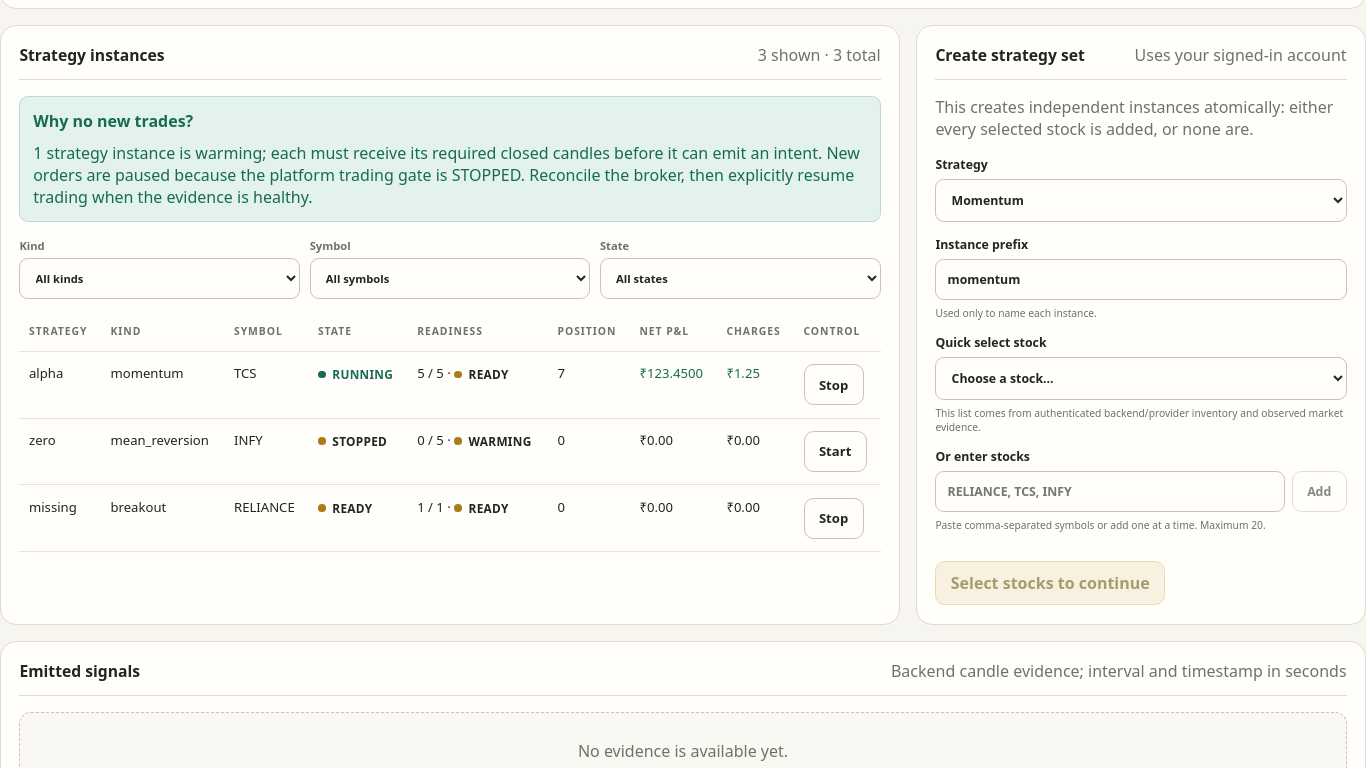
Test case: rejected and mutating actions › shows subscription errors and prevents duplicate control submissions
(page scrolled)
Click the button "Stop" in the row of "alpha" at (834, 385), box [804, 364, 864, 405]
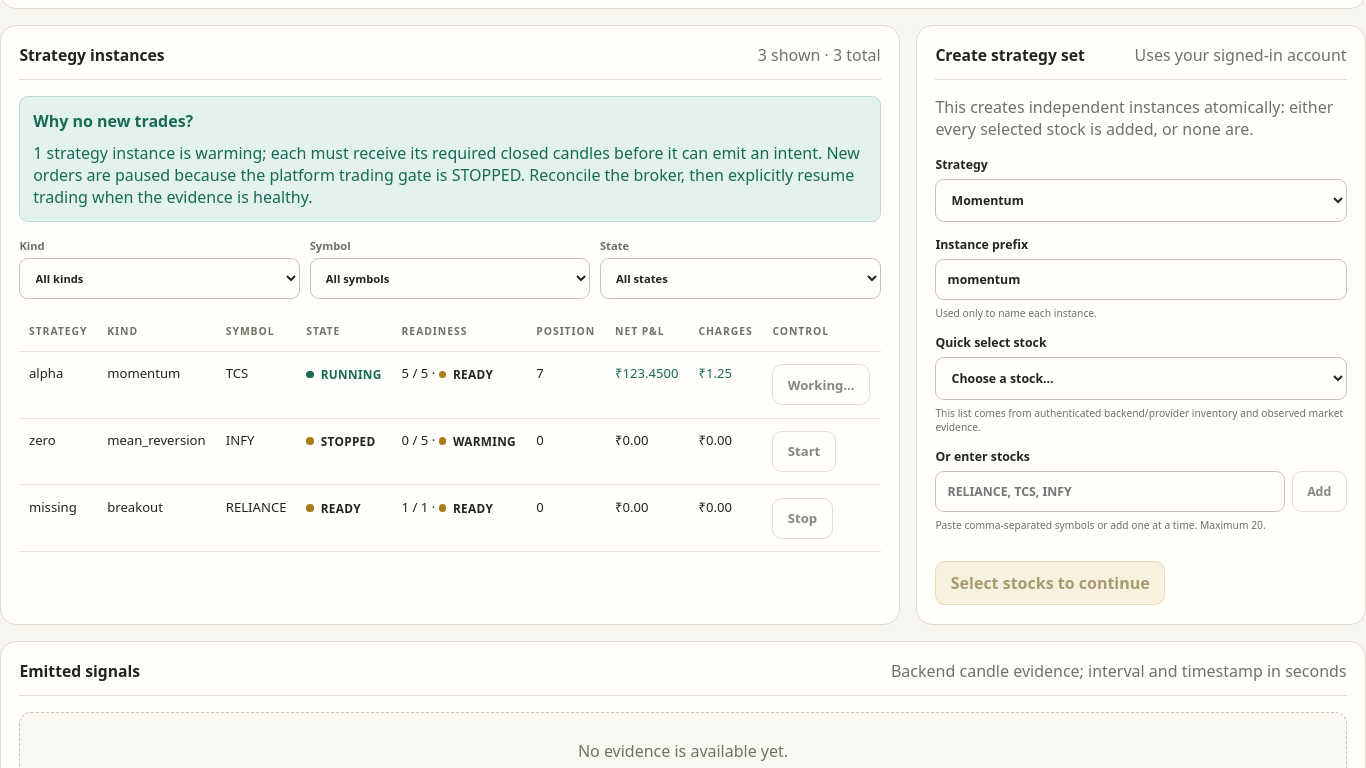
Check: the button "Working…" is disabled
Click the button "Working…" at (821, 385), box [772, 364, 870, 405]
(page scrolled)
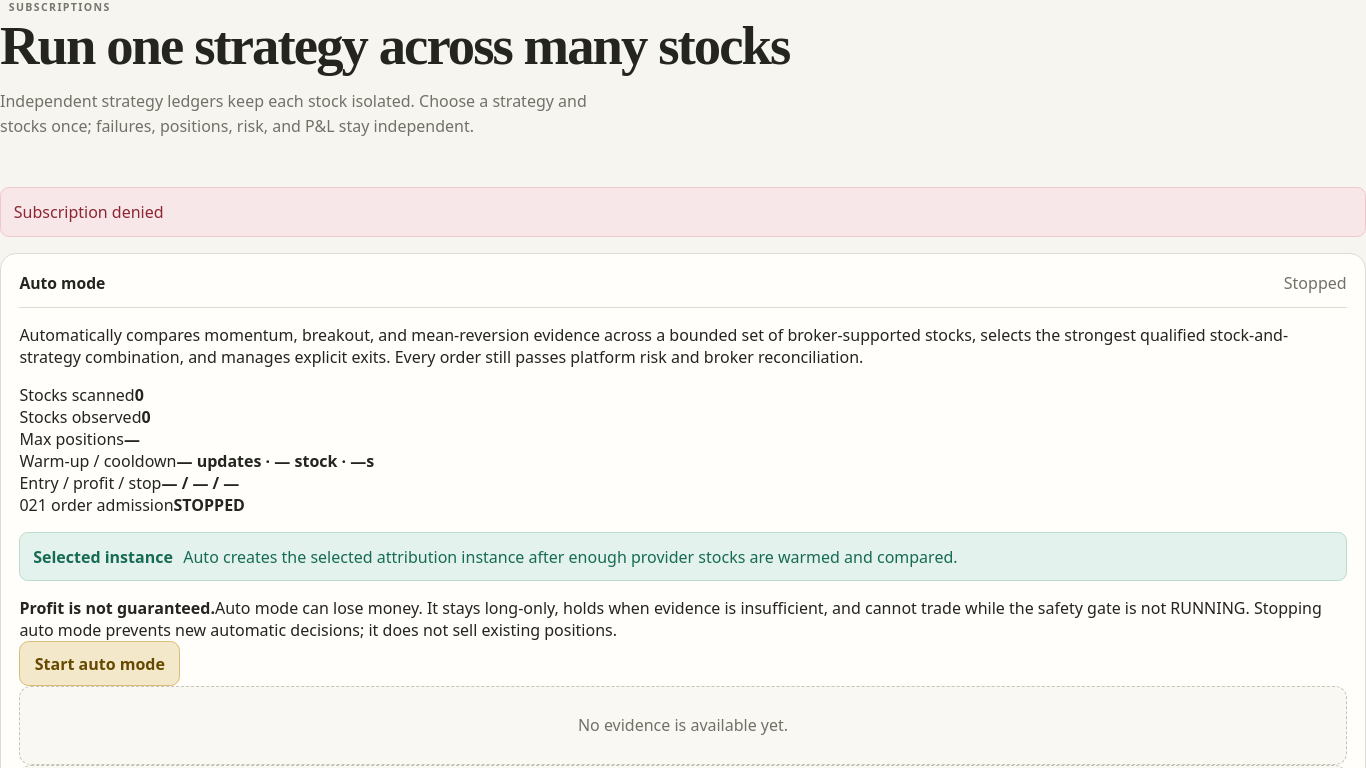
Check: the message reads "Subscription denied", box [14, 201, 164, 223]
